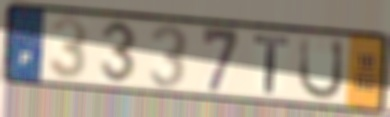3: (148, 20, 192, 94), (47, 13, 90, 83), (98, 19, 140, 86)
7: (201, 24, 241, 96)
T: (252, 33, 291, 96)
U: (296, 34, 346, 102)
